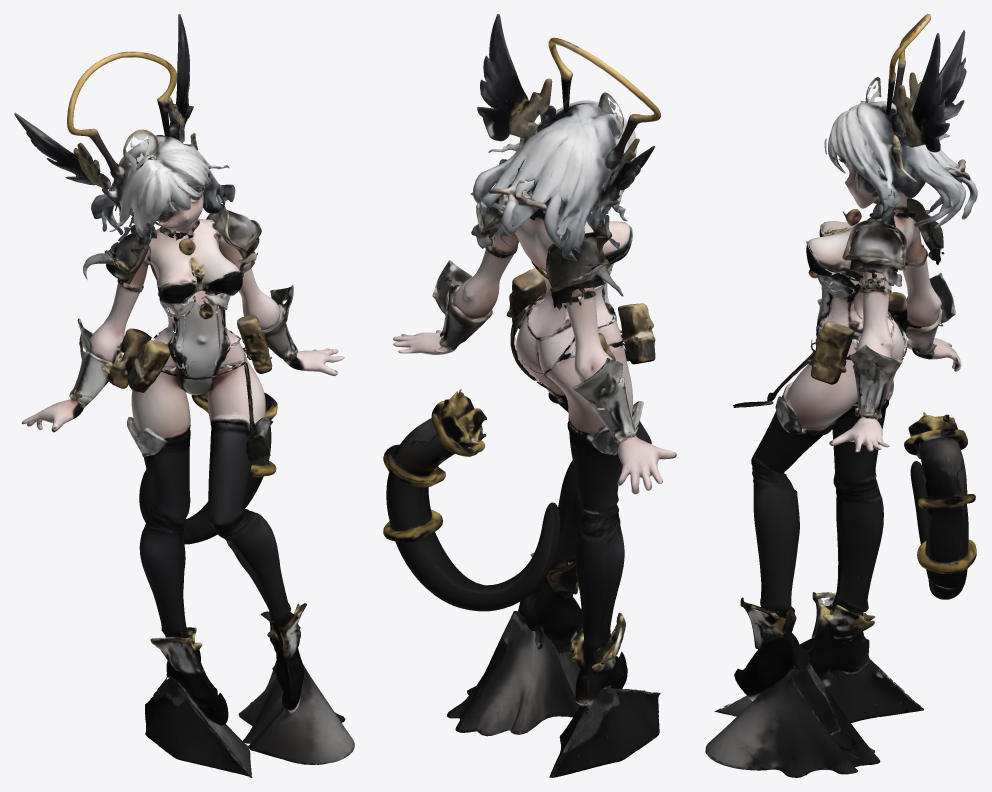
Rendered from Fan3cy_00236.glb.
The picture shows the model from 3 angles, left to right: view 1: azimuth 30°, elevation 25°; view 2: azimuth 150°, elevation 25°; view 3: azimuth 270°, elevation 25°; orthographic projection. The views are drawn at different scales.
Parts seen in each view (by area): view 1: world; view 2: world; view 3: world.
Part boxes in pixels (left/top/right/bottom): world: left=14, top=14, right=354, bottom=777; world: left=383, top=14, right=676, bottom=777; world: left=705, top=14, right=977, bottom=777.
Bounding box in the file's own units: 0.431 × 0.9999 × 0.3546.
Materials: 1 (1 with a texture image).
